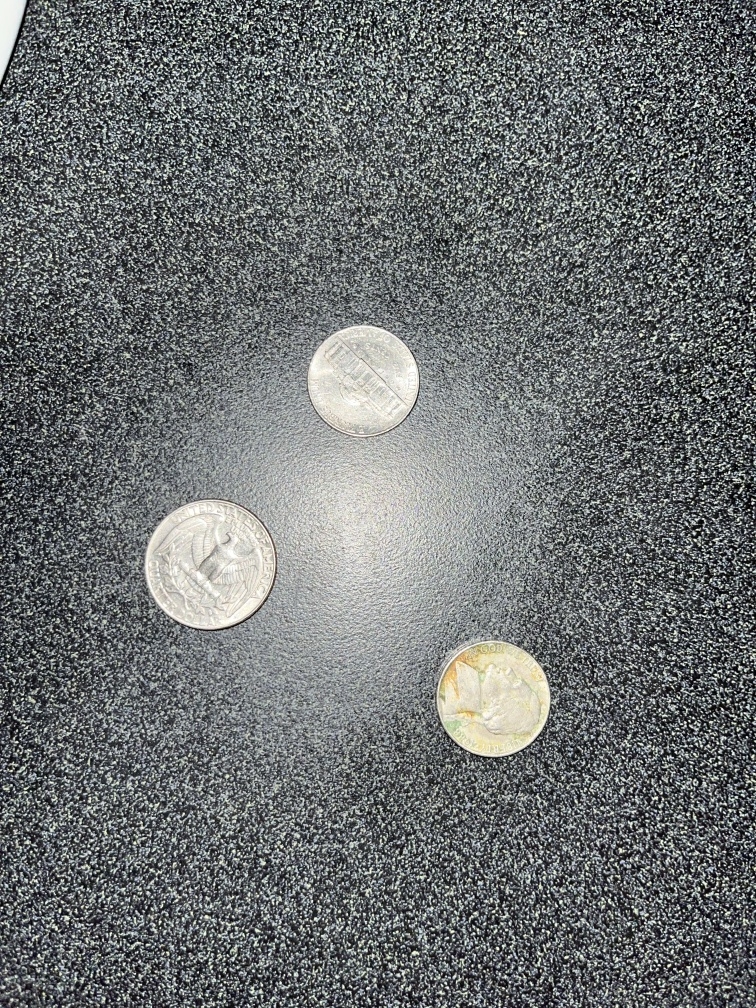nickel: (302, 321, 425, 448), (436, 636, 557, 762)
quarter: (139, 493, 280, 643)
